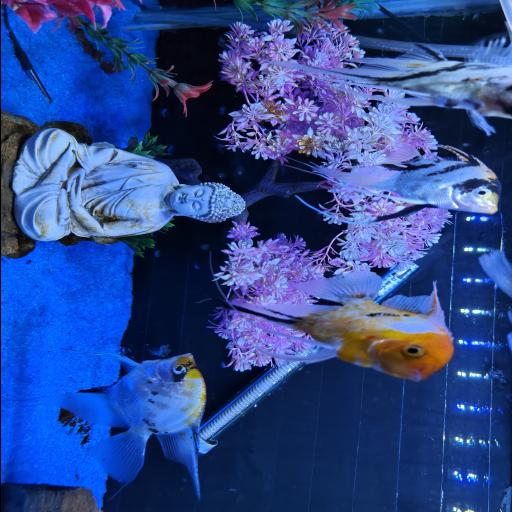Fish: (14, 352, 205, 497), (227, 270, 452, 380), (268, 41, 511, 133), (306, 144, 499, 221), (478, 250, 511, 297), (147, 344, 170, 358)
